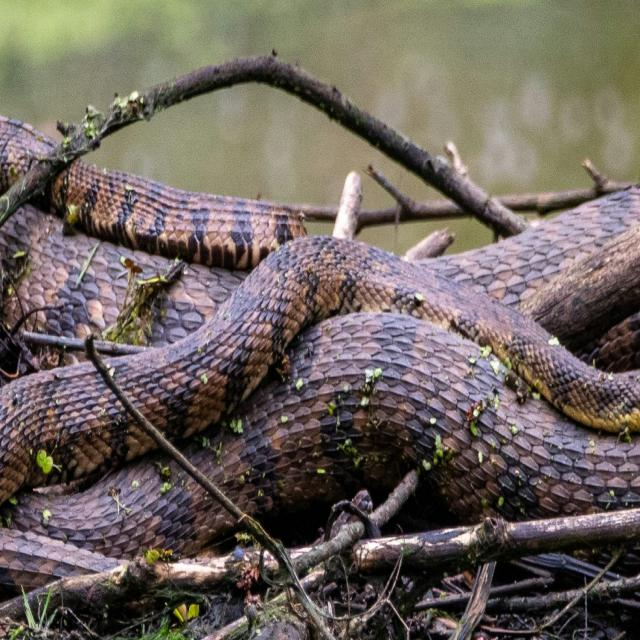snake: (0, 106, 640, 581)
